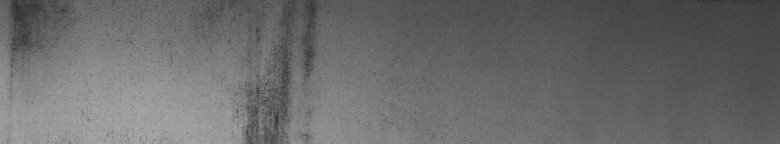ka: (204, 4, 324, 136)
